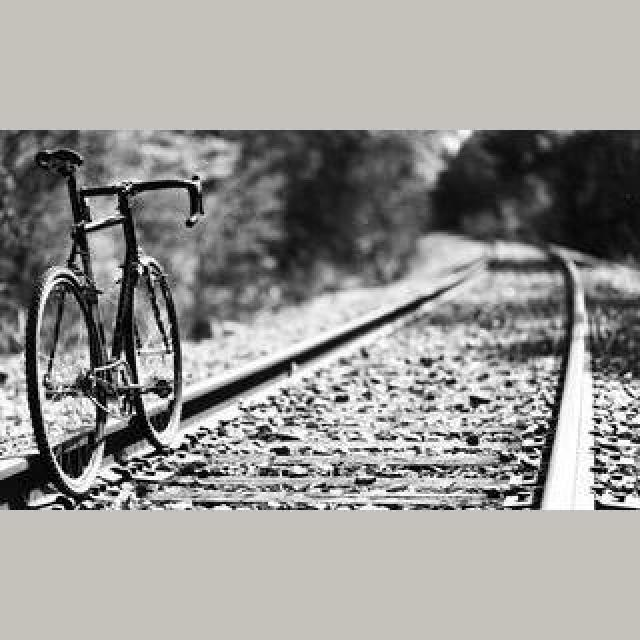Person: (21, 146, 193, 506)
